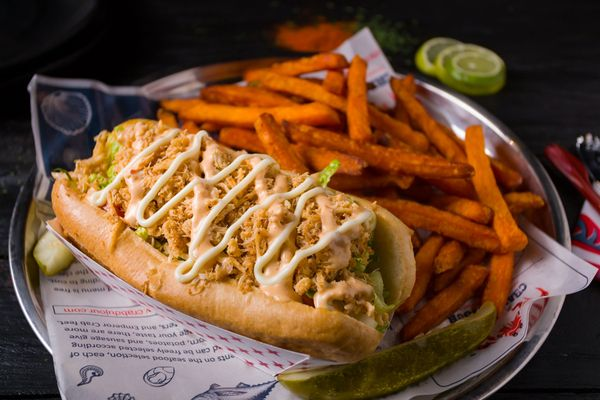burger: (49, 118, 412, 361)
curry: (21, 8, 598, 393)
